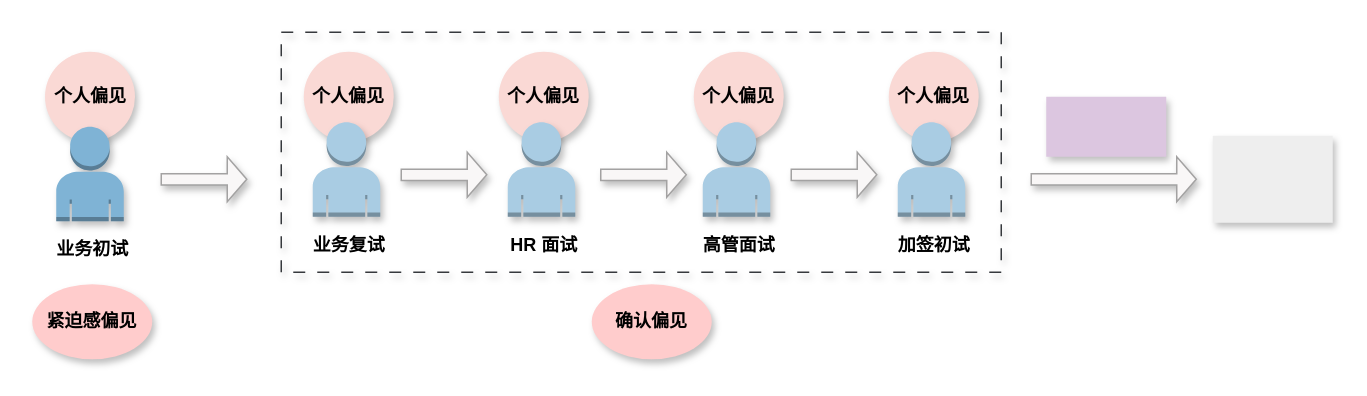
Some shapes in this 1367 by 396 pixel diagram are drawn without their labels. Each missing label, with the centre of its shape:
群体思维: (1107,128)
错误决策: (1273,180)
